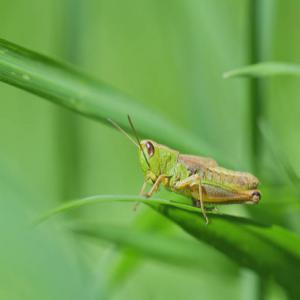locust: (117, 110, 275, 232)
